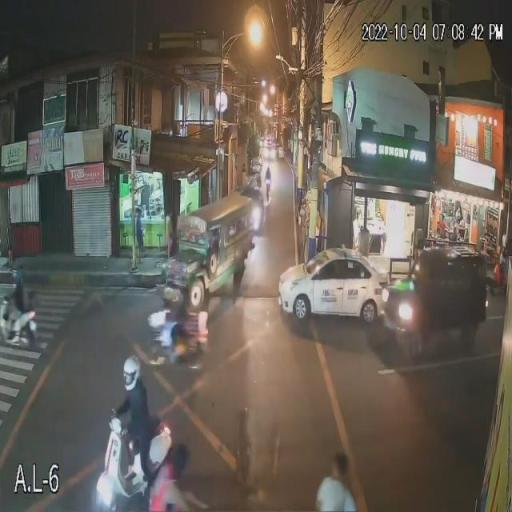helmet: (120, 354, 146, 390)
motorcycle: (92, 438, 146, 510)
rider: (122, 394, 153, 485)
